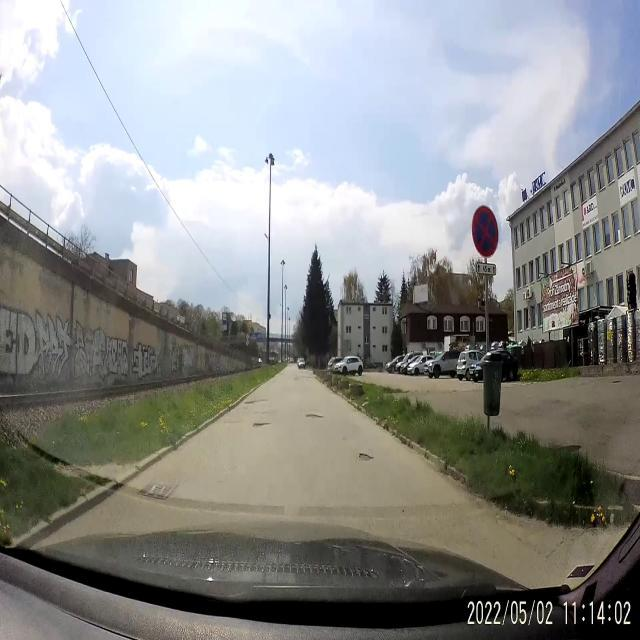Manhole: (137, 478, 177, 508)
Pothole: (243, 393, 270, 411), (248, 418, 276, 431), (356, 449, 375, 465), (302, 410, 326, 420)
